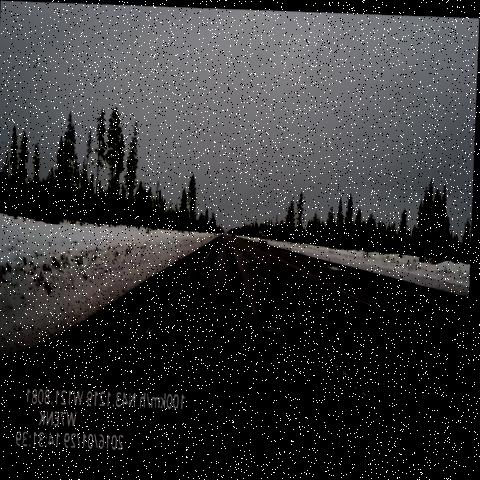pothole: (253, 295, 303, 350)
